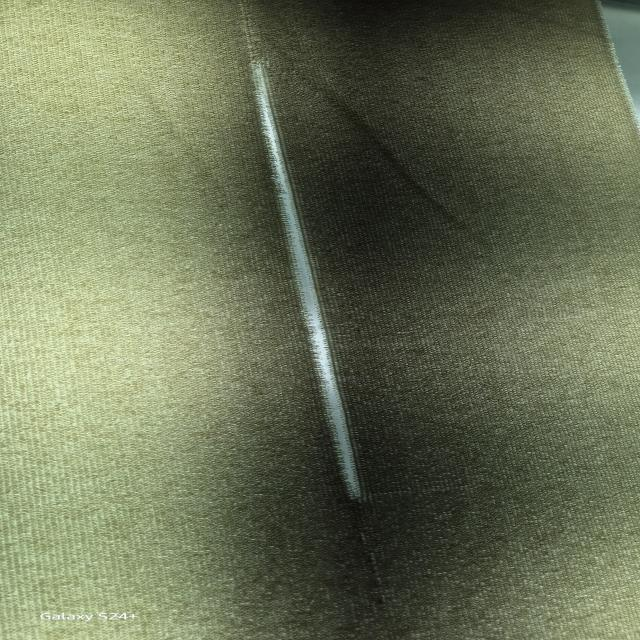Warp_Weft: (236, 44, 382, 502)
